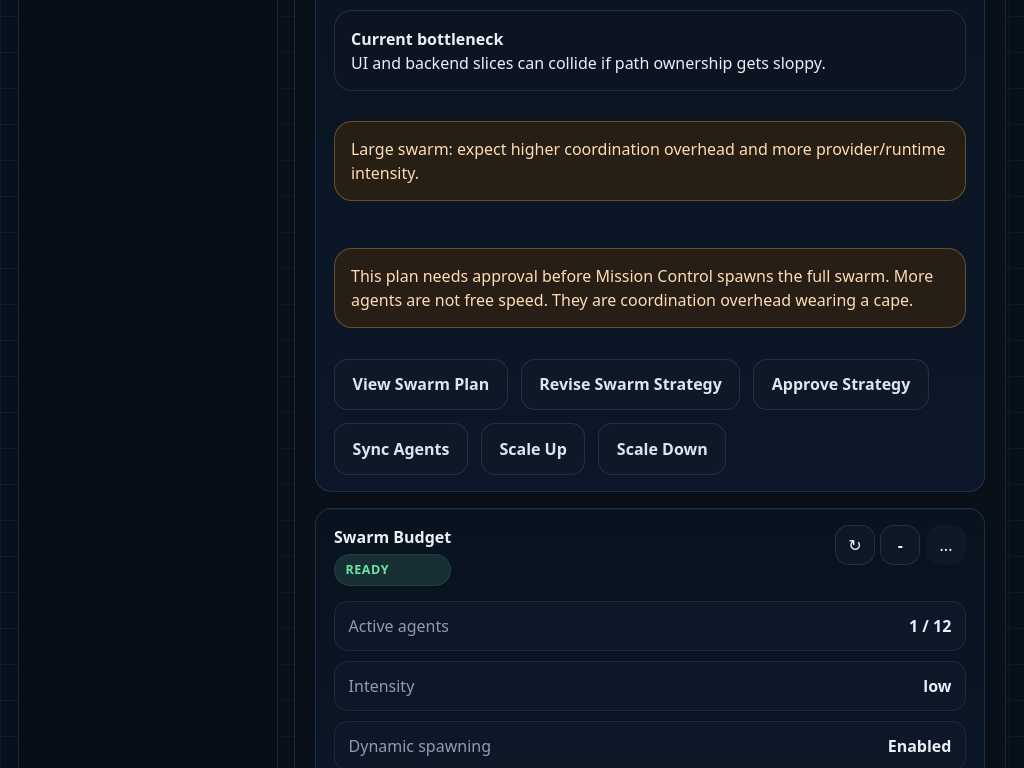
it: project workspace › opens the swarm plan drawer
(page scrolled)
Click the button "View Swarm Plan" at coordinates (421, 384), box left=334, top=359, right=508, bottom=410
(page scrolled)
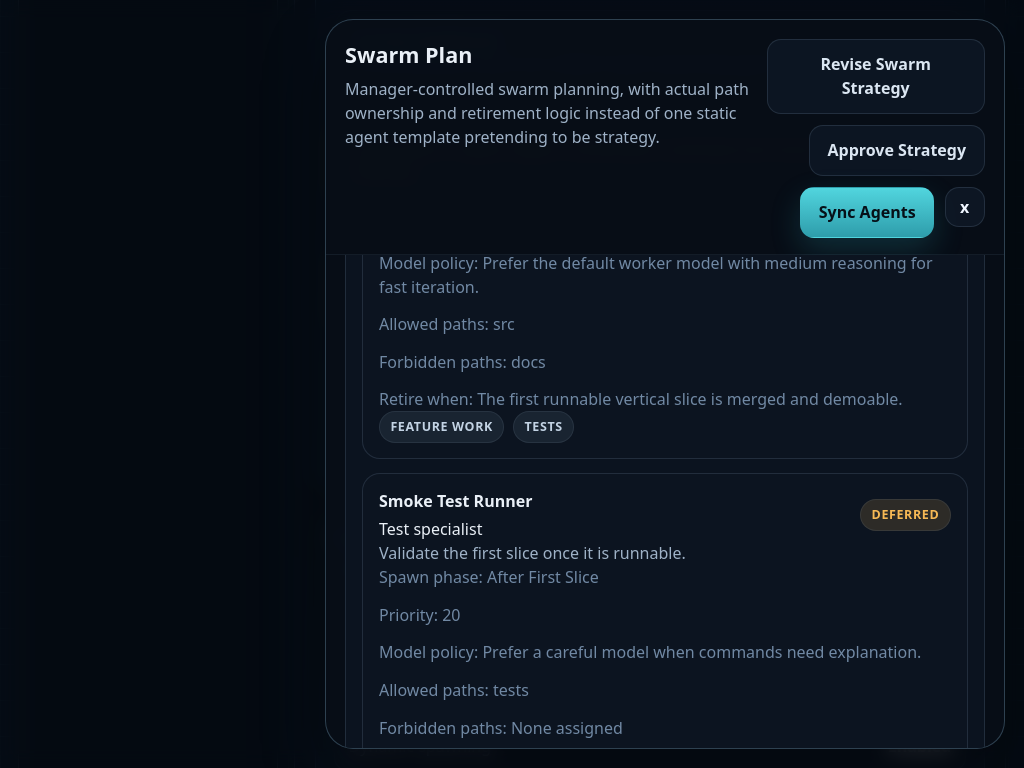
Expected: the dialog "Swarm Plan" is shown
Expected: the text "Smoke Test Runner" is shown, left=379, top=490, right=532, bottom=512
